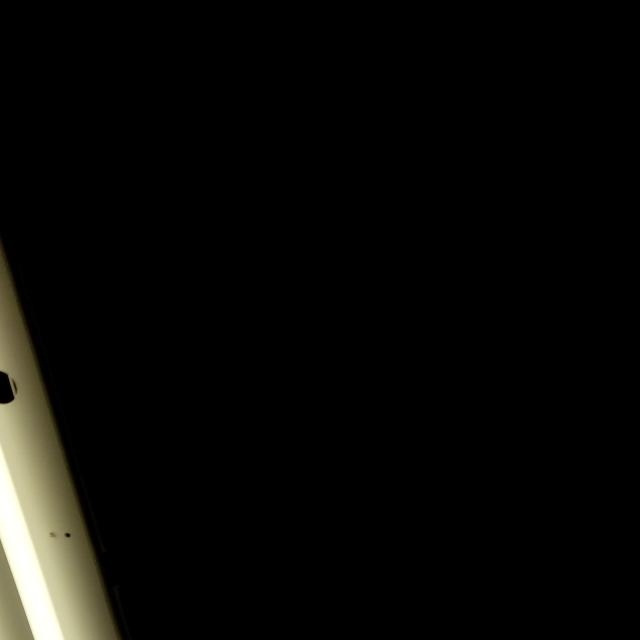fluorescent tube: (0, 132, 345, 640), (0, 117, 246, 640)
